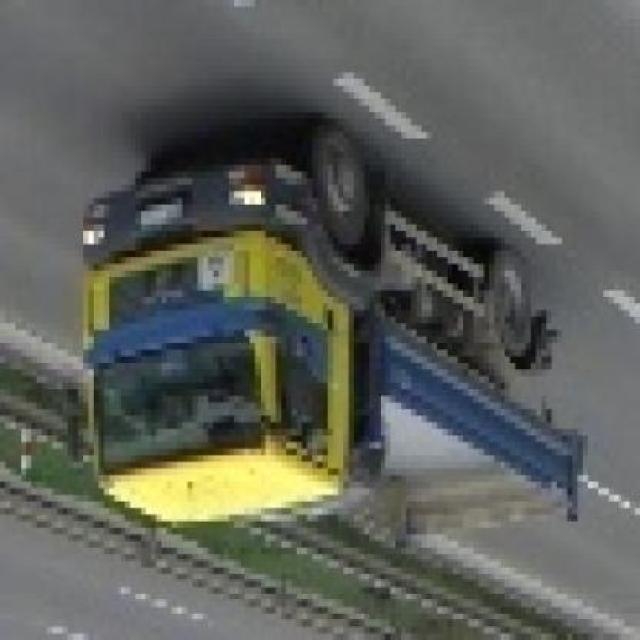truck: (63, 127, 579, 556)
